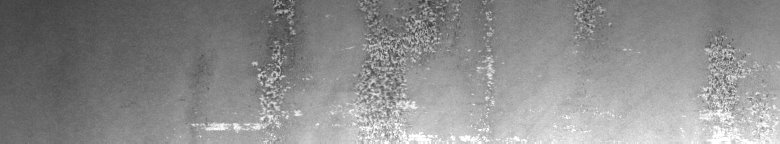hc: (191, 4, 301, 130)
